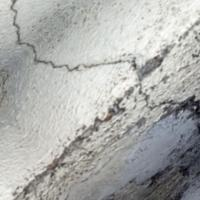crack: (3, 0, 134, 102)
